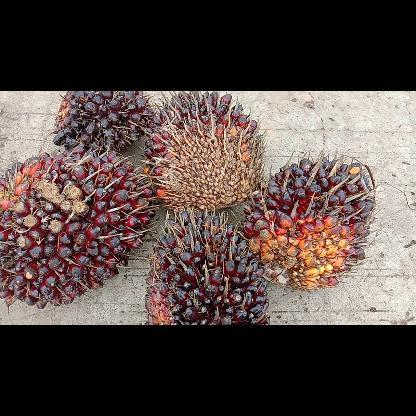TBS mentah: (0, 145, 158, 308), (240, 148, 380, 292), (141, 91, 266, 213), (144, 208, 268, 324), (52, 90, 154, 154)
